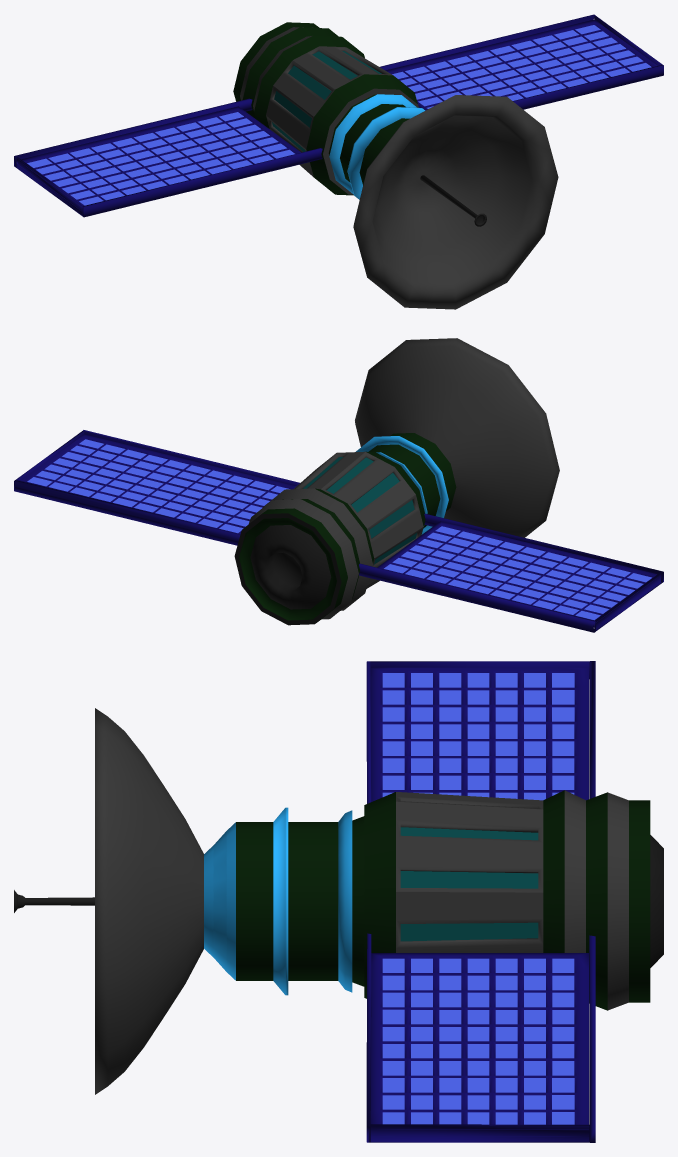
File: satellite.obj
The picture shows the model from 3 angles, top to bottom: view 1: azimuth 30°, elevation 25°; view 2: azimuth 150°, elevation 25°; view 3: azimuth 270°, elevation 25°; orthographic projection. The views are drawn at different scales.
Parts seen in each view (by area): view 1: obj1, obj5, obj4, obj3, obj2, obj8, obj7, obj6, obj9, obj10; view 2: obj1, obj5, obj3, obj4, obj2, obj10, obj8, obj6, obj9, obj7; view 3: obj1, obj2, obj3, obj4, obj8, obj5, obj6, obj7, obj9, obj10.
Boxes of the visible parts, x1=… form: obj1: x1=240, y1=27, x2=558, y2=309; obj5: x1=14, y1=98, x2=322, y2=217; obj4: x1=27, y1=112, x2=294, y2=205; obj3: x1=380, y1=14, x2=663, y2=110; obj2: x1=392, y1=25, x2=651, y2=108; obj8: x1=233, y1=22, x2=417, y2=195; obj7: x1=329, y1=94, x2=425, y2=199; obj6: x1=328, y1=94, x2=409, y2=185; obj9: x1=272, y1=51, x2=381, y2=151; obj10: x1=420, y1=175, x2=486, y2=226; obj1: x1=249, y1=338, x2=559, y2=619; obj5: x1=359, y1=513, x2=663, y2=632; obj3: x1=14, y1=430, x2=299, y2=545; obj4: x1=384, y1=526, x2=651, y2=620; obj2: x1=27, y1=439, x2=289, y2=533; obj10: x1=234, y1=513, x2=341, y2=625; obj8: x1=239, y1=451, x2=425, y2=621; obj6: x1=368, y1=433, x2=456, y2=528; obj9: x1=303, y1=457, x2=416, y2=564; obj7: x1=356, y1=436, x2=448, y2=534; obj1: x1=95, y1=708, x2=628, y2=1094; obj2: x1=382, y1=958, x2=574, y2=1124; obj3: x1=366, y1=933, x2=595, y2=1142; obj4: x1=382, y1=673, x2=574, y2=800; obj8: x1=364, y1=790, x2=650, y2=1010; obj5: x1=366, y1=661, x2=595, y2=803; obj6: x1=236, y1=816, x2=364, y2=986; obj7: x1=204, y1=807, x2=352, y2=995; obj9: x1=400, y1=827, x2=538, y2=941; obj10: x1=14, y1=835, x2=663, y2=967.
Bounding box in the file's own units: 19.74 × 6.98 × 11.66.
